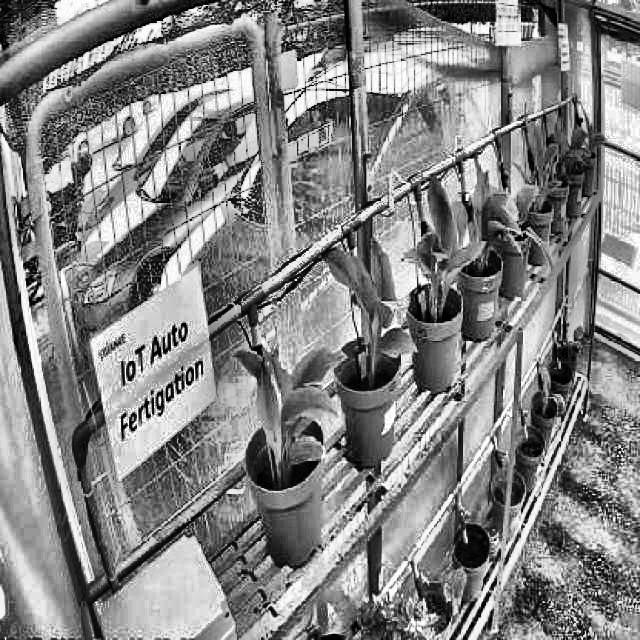plants: (320, 236, 420, 392), (234, 341, 340, 488), (402, 172, 486, 320), (449, 172, 531, 277)
